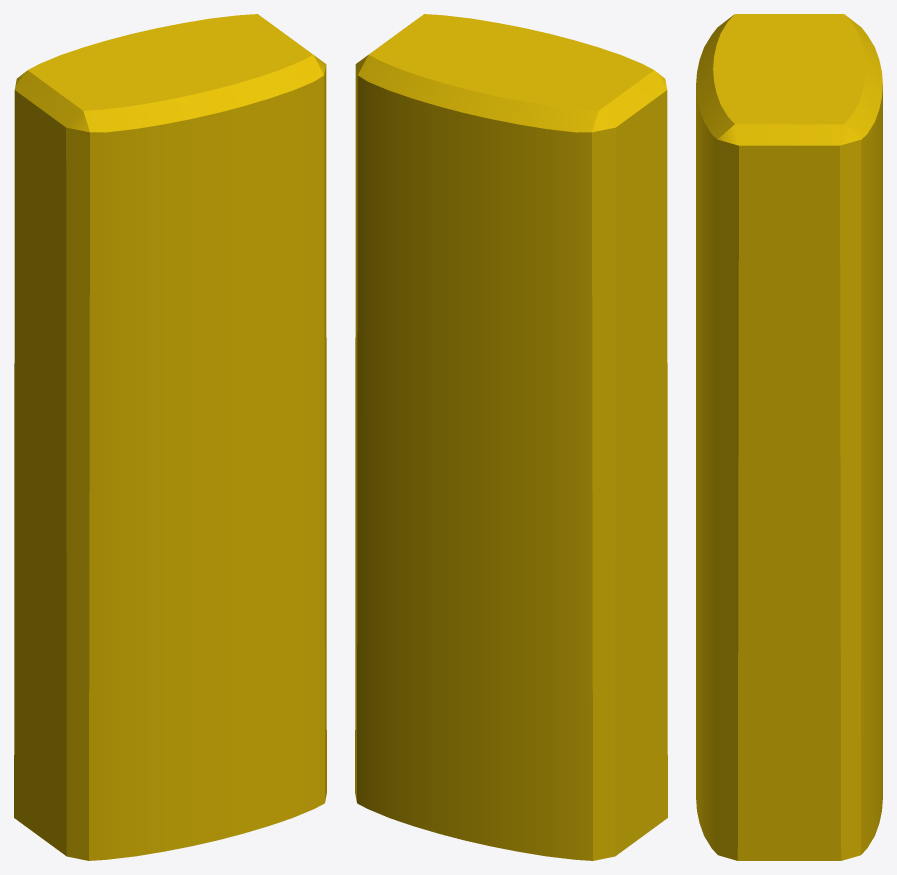
The model's file is Building_02_Yellow.fbx.
3 views of the same model, side by side, from view 1: azimuth 30°, elevation 25°; view 2: azimuth 150°, elevation 25°; view 3: azimuth 270°, elevation 25° (orthographic).
Parts seen in each view (by area): view 1: Building02_Yellow; view 2: Building02_Yellow; view 3: Building02_Yellow.
Boxes of the visible parts, x1,y1,x2,y2 form: Building02_Yellow: (14,14,326,860); Building02_Yellow: (355,14,667,860); Building02_Yellow: (696,14,882,860).
Bounding box in the file's own units: 1435 × 3918 × 910.
